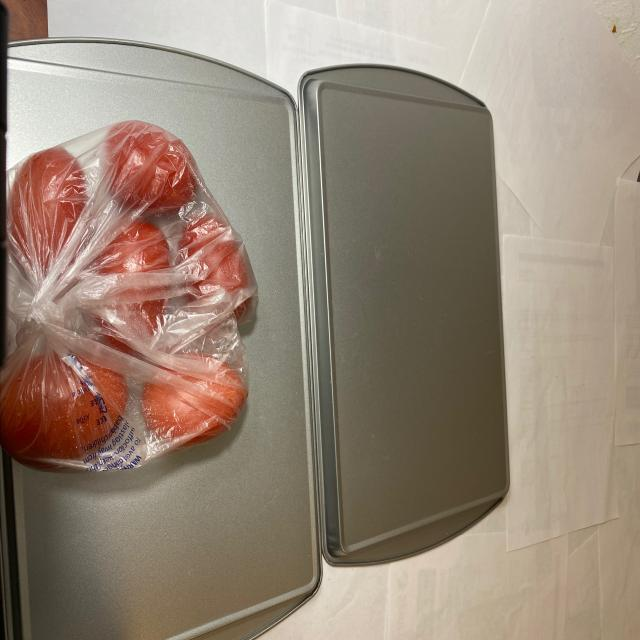tomato: (4, 115, 249, 469)
